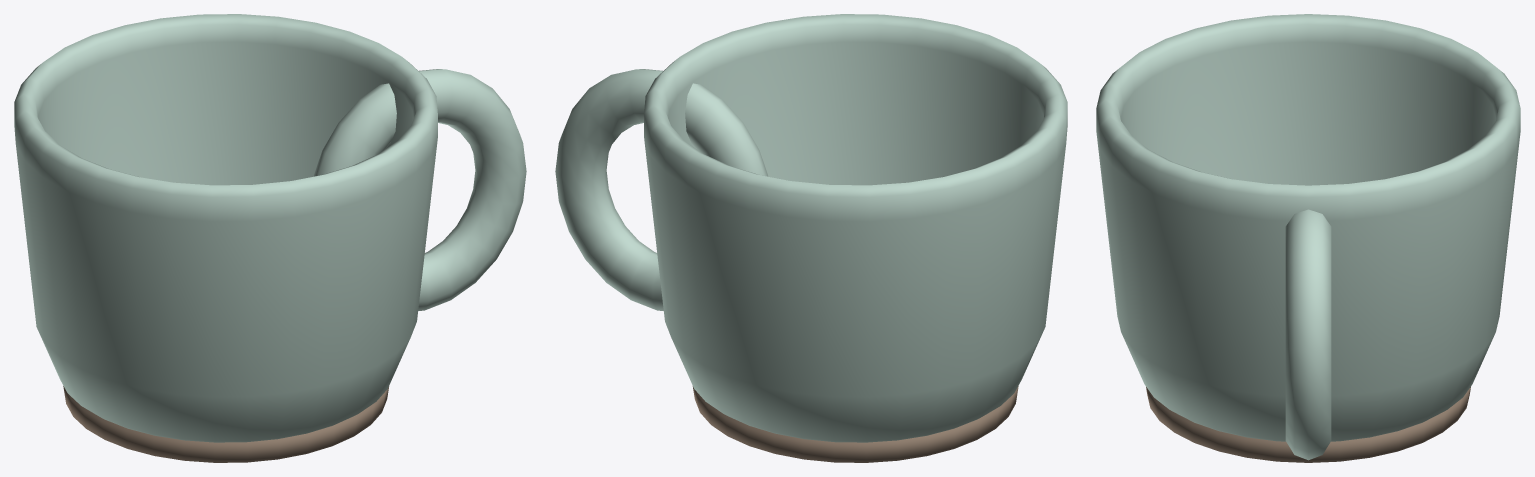
Rendered from diner-ceramic-mug.glb.
The picture shows the model from 3 angles, left to right: view 1: azimuth 30°, elevation 25°; view 2: azimuth 150°, elevation 25°; view 3: azimuth 270°, elevation 25°; orthographic projection.
Visible parts, largest first — view 1: Juniper glazed stoneware, Unglazed foot; view 2: Juniper glazed stoneware, Unglazed foot; view 3: Juniper glazed stoneware, Unglazed foot.
Part boxes in pixels (x1,y1,x2,y2): Juniper glazed stoneware: [14, 14, 526, 442]; Unglazed foot: [63, 386, 389, 462]; Juniper glazed stoneware: [555, 14, 1067, 442]; Unglazed foot: [692, 386, 1018, 462]; Juniper glazed stoneware: [1096, 14, 1520, 460]; Unglazed foot: [1146, 387, 1470, 462].
Bounding box in the file's own units: 0.1861 × 0.111 × 0.142.
